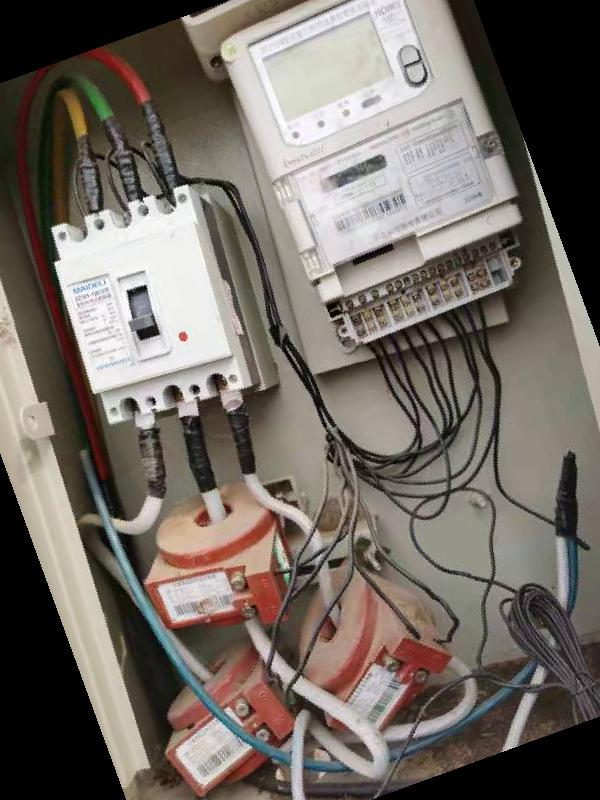digital: (228, 2, 518, 283)
